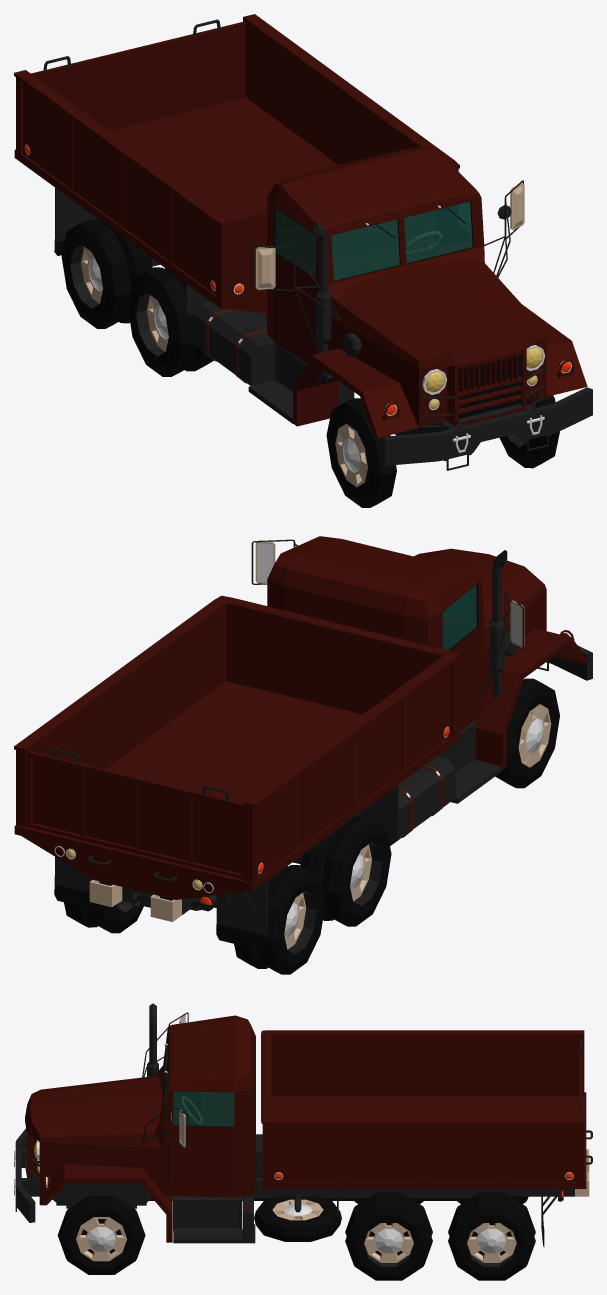
The model's file is VintageTruck_01.FBX.
The picture shows the model from 3 angles, top to bottom: view 1: azimuth 30°, elevation 25°; view 2: azimuth 150°, elevation 25°; view 3: azimuth 270°, elevation 25°; orthographic projection. The views are drawn at different scales.
Parts seen in each view (by area): view 1: VintageTruck_01, flap, interior, wheels_b2_r, bumper_f, wheels_b1_r, wheel_f_r, tank, exhaust, mirror_r, wheel_f_l, mirror_l (+2 smaller); view 2: VintageTruck_01, flap, wheels_b1_r, wheels_b2_r, wheel_f_r, tank, exhaust, wheels_b2_l, interior, mirror_r, mirror_l, bumper_f; view 3: VintageTruck_01, wheels_b2_l, wheels_b1_l, wheel_f_l, spareWheel, interior, bumper_f, mirror_l, exhaust, jerryCan.
Boxes of the visible parts, <box> form: VintageTruck_01: <box>14,14,587,437</box>; flap: <box>31,19,245,130</box>; interior: <box>275,202,472,280</box>; wheels_b2_r: <box>61,219,152,328</box>; bumper_f: <box>384,387,592,470</box>; wheels_b1_r: <box>127,267,213,376</box>; wheel_f_r: <box>326,398,396,507</box>; tank: <box>193,302,275,385</box>; exhaust: <box>313,221,336,382</box>; mirror_r: <box>251,246,341,352</box>; wheel_f_l: <box>499,395,559,468</box>; mirror_l: <box>484,180,524,277</box>; VintageTruck_01: <box>14,536,587,950</box>; flap: <box>27,748,242,879</box>; wheels_b1_r: <box>300,817,391,926</box>; wheels_b2_r: <box>234,865,325,974</box>; wheel_f_r: <box>495,678,559,788</box>; tank: <box>353,756,455,845</box>; exhaust: <box>489,550,507,698</box>; wheels_b2_l: <box>64,901,143,933</box>; interior: <box>443,585,476,649</box>; mirror_r: <box>480,591,524,697</box>; mirror_l: <box>251,539,297,584</box>; bumper_f: <box>538,645,592,680</box>; VintageTruck_01: <box>21,1015,592,1246</box>; wheels_b2_l: <box>448,1192,535,1280</box>; wheels_b1_l: <box>345,1192,432,1280</box>; wheel_f_l: <box>57,1195,145,1274</box>; spareWheel: <box>254,1196,341,1241</box>; interior: <box>165,1051,233,1126</box>; bumper_f: <box>14,1128,35,1222</box>; mirror_l: <box>140,1104,188,1182</box>; exhaust: <box>147,1003,158,1076</box>; jerryCan: <box>242,1196,253,1238</box>.
Size of the model in its own units: 34.56 by 31.48 by 81.46.
